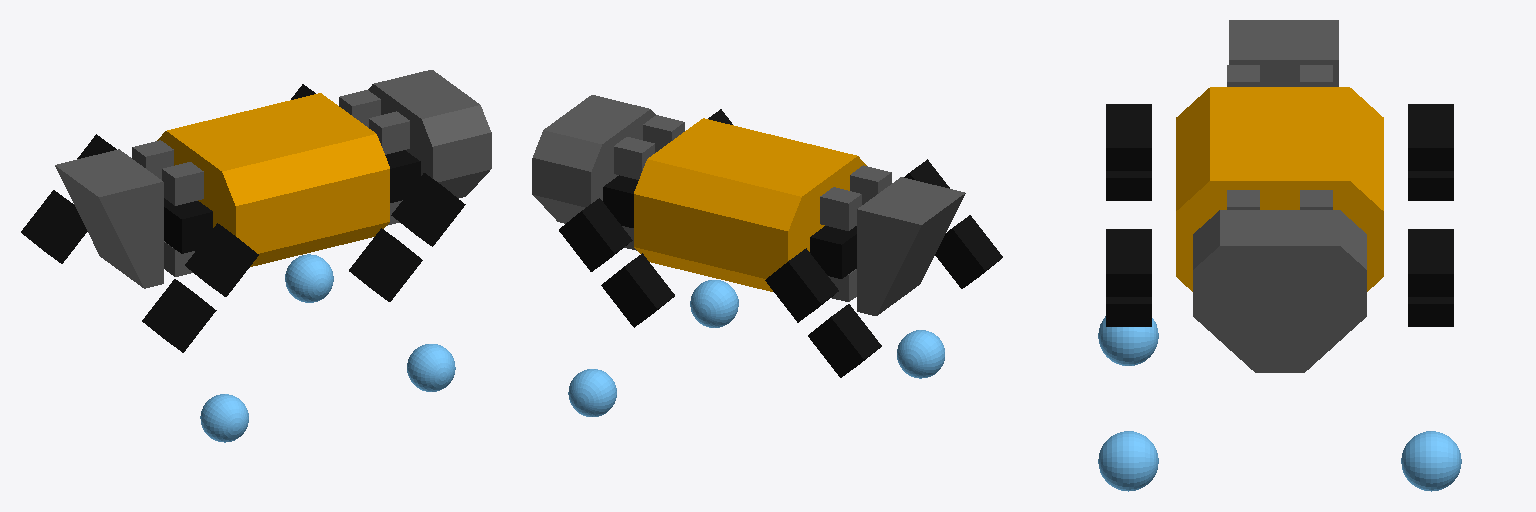
--- Render facts (derived) ---
3 views of the same robot in one strip: view 1: azimuth 30°, elevation 25°; view 2: azimuth 150°, elevation 25°; view 3: azimuth 270°, elevation 25° (orthographic).
Robot: Arctic — 18 links, 17 joints (12 revolute, 5 fixed); root link dummy; default pose: every joint at zero.
Links seen in each view (by area): view 1: root, foot_8, foot_7, foot_1, foot_2, foot_11, foot_-6, foot_-3, foot_-9; view 2: root, foot_11, foot_10, foot_4, foot_5, foot_8, foot_-9, foot_-3, foot_-6, foot_7; view 3: root, foot_1, foot_4, foot_10, foot_7, foot_-3, foot_-6, foot_-9, foot_11, foot_2, foot_5, foot_8.
Link boxes in pixels (left/top/right/bottom): root: left=55, top=70, right=491, bottom=288; foot_8: left=142, top=279, right=216, bottom=352; foot_7: left=185, top=223, right=258, bottom=296; foot_1: left=391, top=173, right=465, bottom=246; foot_2: left=349, top=228, right=422, bottom=301; foot_11: left=21, top=190, right=87, bottom=263; foot_-6: left=285, top=254, right=333, bottom=302; foot_-3: left=407, top=344, right=455, bottom=391; foot_-9: left=200, top=394, right=248, bottom=442; root: left=532, top=95, right=965, bottom=315; foot_11: left=808, top=304, right=881, bottom=377; foot_10: left=765, top=248, right=838, bottom=322; foot_4: left=559, top=198, right=632, bottom=271; foot_5: left=601, top=253, right=674, bottom=327; foot_8: left=935, top=215, right=1002, bottom=288; foot_-9: left=897, top=330, right=944, bottom=378; foot_-3: left=690, top=280, right=738, bottom=327; foot_-6: left=568, top=369, right=616, bottom=416; foot_7: left=904, top=159, right=949, bottom=188; root: left=1176, top=20, right=1383, bottom=372; foot_1: left=1106, top=229, right=1151, bottom=296; foot_4: left=1408, top=229, right=1453, bottom=296; foot_10: left=1408, top=104, right=1453, bottom=170; foot_7: left=1106, top=104, right=1151, bottom=170; foot_-3: left=1098, top=431, right=1158, bottom=491; foot_-6: left=1401, top=431, right=1461, bottom=491; foot_-9: left=1098, top=316, right=1158, bottom=365; foot_11: left=1408, top=171, right=1453, bottom=200; foot_2: left=1106, top=297, right=1151, bottom=326; foot_5: left=1408, top=297, right=1453, bottom=326; foot_8: left=1106, top=171, right=1151, bottom=200.
Size in the robot's own frame: 0.4081 by 0.2734 by 0.2448 metres.
Meshes: 7 distinct files referenced, 6 mesh visuals loaded (6 binary STL); not drawn: 1 (reference not matched to a file when rendering).

robot.urdf — Arctic:
<?xml version="1.0"?>
<!-- created with Phobos 1.0.1 "Capricious Choutengan" -->
  <robot name="Arctic">

    <link name="foot_-12">
      <inertial>
        <origin xyz="0 0 0" rpy="0 0 0"/>
        <mass value="0.1"/>
        <inertia ixx="0.001" ixy="0" ixz="0" iyy="0.001" iyz="0" izz="0.001"/>
      </inertial>
      <visual name="-12">
        <origin xyz="0 0 0.00024" rpy="1.5708 0 0"/>
        <geometry>
          <mesh filename="package://arc_description/meshes/stl/Sphere.003.stl" scale="1.0 1.0 1.0"/>
        </geometry>
        <material name="blue"/>
      </visual>
      <collision name="-12">
        <origin xyz="0 0 0.00024" rpy="1.5708 0 0"/>
        <geometry>
          <sphere radius="0.02278"/>
        </geometry>
      </collision>
    </link>

    <link name="foot_-3">
      <inertial>
        <origin xyz="0 0 0" rpy="0 0 0"/>
        <mass value="0.1"/>
        <inertia ixx="0.001" ixy="0" ixz="0" iyy="0.001" iyz="0" izz="0.001"/>
      </inertial>
      <visual name="-3">
        <origin xyz="0 0 -0.00024" rpy="-1.5708 0 0"/>
        <geometry>
          <mesh filename="package://arc_description/meshes/stl/Sphere.001.stl" scale="1.0 1.0 1.0"/>
        </geometry>
        <material name="blue"/>
      </visual>
      <collision name="-3">
        <origin xyz="0 0 -0.00024" rpy="-1.5708 0 0"/>
        <geometry>
          <sphere radius="0.02278"/>
        </geometry>
      </collision>
    </link>

    <link name="foot_-6">
      <inertial>
        <origin xyz="0 0 0" rpy="0 0 0"/>
        <mass value="0.1"/>
        <inertia ixx="0.001" ixy="0" ixz="0" iyy="0.001" iyz="0" izz="0.001"/>
      </inertial>
      <visual name="-6">
        <origin xyz="0 0 0.00024" rpy="1.5708 0 0"/>
        <geometry>
          <mesh filename="package://arc_description/meshes/stl/Sphere.stl" scale="1.0 1.0 1.0"/>
        </geometry>
        <material name="blue"/>
      </visual>
      <collision name="-6">
        <origin xyz="0 0 0.00024" rpy="1.5708 0 0"/>
        <geometry>
          <sphere radius="0.02278"/>
        </geometry>
      </collision>
    </link>

    <link name="foot_-9">
      <inertial>
        <origin xyz="0 0 0" rpy="0 0 0"/>
        <mass value="0.1"/>
        <inertia ixx="0.001" ixy="0" ixz="0" iyy="0.001" iyz="0" izz="0.001"/>
      </inertial>
      <visual name="-9">
        <origin xyz="0 0 -0.00024" rpy="-1.5708 0 0"/>
        <geometry>
          <mesh filename="package://arc_description/meshes/stl/Sphere.002.stl" scale="1.0 1.0 1.0"/>
        </geometry>
        <material name="blue"/>
      </visual>
      <collision name="-9">
        <origin xyz="0 0 -0.00024" rpy="-1.5708 0 0"/>
        <geometry>
          <sphere radius="0.02278"/>
        </geometry>
      </collision>
    </link>

    <link name="foot_1">
      <inertial>
        <origin xyz="0 0 0" rpy="0 0 0"/>
        <mass value="0.1"/>
        <inertia ixx="0.001" ixy="0" ixz="0" iyy="0.001" iyz="0" izz="0.001"/>
      </inertial>
      <visual name="-1">
        <origin xyz="0.00555 -0.06477 -0.00559" rpy="0 -0.7854 0"/>
        <geometry>
          <box size="0.0356 0.03427 0.0506"/>
        </geometry>
        <material name="black"/>
      </visual>
      <collision name="-1">
        <origin xyz="0.00555 -0.06477 -0.00559" rpy="0 -0.7854 0"/>
        <geometry>
          <box size="0.0356 0.03427 0.0506"/>
        </geometry>
      </collision>
    </link>

    <link name="foot_10">
      <inertial>
        <origin xyz="0 0 0" rpy="0 0 0"/>
        <mass value="0.1"/>
        <inertia ixx="0.001" ixy="0" ixz="0" iyy="0.001" iyz="0" izz="0.001"/>
      </inertial>
      <visual name="-10">
        <origin xyz="-0.00555 0.06525 0.00558" rpy="0 2.35619 0"/>
        <geometry>
          <box size="0.0356 0.03427 0.0506"/>
        </geometry>
        <material name="black"/>
      </visual>
      <collision name="-10">
        <origin xyz="-0.00555 0.06525 0.00558" rpy="0 2.35619 0"/>
        <geometry>
          <box size="0.0356 0.03427 0.0506"/>
        </geometry>
      </collision>
    </link>

    <link name="foot_11">
      <inertial>
        <origin xyz="0 0 0" rpy="0 0 0"/>
        <mass value="0.1"/>
        <inertia ixx="0.001" ixy="0" ixz="0" iyy="0.001" iyz="0" izz="0.001"/>
      </inertial>
      <visual name="-11">
        <origin xyz="-0.03656 0.03692 0.00021" rpy="1.5708 0 0.7854"/>
        <geometry>
          <box size="0.0356 0.03427 0.0506"/>
        </geometry>
        <material name="black"/>
      </visual>
      <collision name="-11">
        <origin xyz="-0.03656 0.03692 0.00021" rpy="1.5708 0 0.7854"/>
        <geometry>
          <box size="0.0356 0.03427 0.0506"/>
        </geometry>
      </collision>
    </link>

    <link name="foot_12">
      <inertial>
        <origin xyz="0 0 0" rpy="0 0 0"/>
        <mass value="0.1"/>
        <inertia ixx="0.001" ixy="0" ixz="0" iyy="0.001" iyz="0" izz="0.001"/>
      </inertial>
    </link>

    <link name="foot_2">
      <inertial>
        <origin xyz="0 0 0" rpy="0 0 0"/>
        <mass value="0.1"/>
        <inertia ixx="0.001" ixy="0" ixz="0" iyy="0.001" iyz="0" izz="0.001"/>
      </inertial>
      <visual name="-2">
        <origin xyz="-0.03656 -0.03692 -0.00027" rpy="-1.5708 0 -0.7854"/>
        <geometry>
          <box size="0.0356 0.03427 0.0506"/>
        </geometry>
        <material name="black"/>
      </visual>
      <collision name="-2">
        <origin xyz="-0.03656 -0.03692 -0.00027" rpy="-1.5708 0 -0.7854"/>
        <geometry>
          <box size="0.0356 0.03427 0.0506"/>
        </geometry>
      </collision>
    </link>

    <link name="foot_3">
      <inertial>
        <origin xyz="0 0 0" rpy="0 0 0"/>
        <mass value="0.1"/>
        <inertia ixx="0.001" ixy="0" ixz="0" iyy="0.001" iyz="0" izz="0.001"/>
      </inertial>
    </link>

    <link name="foot_4">
      <inertial>
        <origin xyz="0 0 0" rpy="0 0 0"/>
        <mass value="0.1"/>
        <inertia ixx="0.001" ixy="0" ixz="0" iyy="0.001" iyz="0" izz="0.001"/>
      </inertial>
      <visual name="-4">
        <origin xyz="0.00555 0.06525 -0.00559" rpy="0 -0.7854 0"/>
        <geometry>
          <box size="0.0356 0.03427 0.0506"/>
        </geometry>
        <material name="black"/>
      </visual>
      <collision name="-4">
        <origin xyz="0.00555 0.06525 -0.00559" rpy="0 -0.7854 0"/>
        <geometry>
          <box size="0.0356 0.03427 0.0506"/>
        </geometry>
      </collision>
    </link>

    <link name="foot_5">
      <inertial>
        <origin xyz="0 0 0" rpy="0 0 0"/>
        <mass value="0.1"/>
        <inertia ixx="0.001" ixy="0" ixz="0" iyy="0.001" iyz="0" izz="0.001"/>
      </inertial>
      <visual name="-5">
        <origin xyz="-0.03656 0.03692 0.00021" rpy="1.5708 0 0.7854"/>
        <geometry>
          <box size="0.0356 0.03427 0.0506"/>
        </geometry>
        <material name="black"/>
      </visual>
      <collision name="-5">
        <origin xyz="-0.03656 0.03692 0.00021" rpy="1.5708 0 0.7854"/>
        <geometry>
          <box size="0.0356 0.03427 0.0506"/>
        </geometry>
      </collision>
    </link>

    <link name="foot_6">
      <inertial>
        <origin xyz="0 0 0" rpy="0 0 0"/>
        <mass value="0.1"/>
        <inertia ixx="0.001" ixy="0" ixz="0" iyy="0.001" iyz="0" izz="0.001"/>
      </inertial>
    </link>

    <link name="foot_7">
      <inertial>
        <origin xyz="0 0 0" rpy="0 0 0"/>
        <mass value="0.1"/>
        <inertia ixx="0.001" ixy="0" ixz="0" iyy="0.001" iyz="0" izz="0.001"/>
      </inertial>
      <visual name="-7">
        <origin xyz="-0.00555 -0.06477 0.00558" rpy="0 2.35619 0"/>
        <geometry>
          <box size="0.0356 0.03427 0.0506"/>
        </geometry>
        <material name="black"/>
      </visual>
      <collision name="-7">
        <origin xyz="-0.00555 -0.06477 0.00558" rpy="0 2.35619 0"/>
        <geometry>
          <box size="0.0356 0.03427 0.0506"/>
        </geometry>
      </collision>
    </link>

    <link name="foot_8">
      <inertial>
        <origin xyz="0 0 0" rpy="0 0 0"/>
        <mass value="0.1"/>
        <inertia ixx="0.001" ixy="0" ixz="0" iyy="0.001" iyz="0" izz="0.001"/>
      </inertial>
      <visual name="-8">
        <origin xyz="-0.03656 -0.03692 -0.00027" rpy="-1.5708 0 -0.7854"/>
        <geometry>
          <box size="0.0356 0.03427 0.0506"/>
        </geometry>
        <material name="black"/>
      </visual>
      <collision name="-8">
        <origin xyz="-0.03656 -0.03692 -0.00027" rpy="-1.5708 0 -0.7854"/>
        <geometry>
          <box size="0.0356 0.03427 0.0506"/>
        </geometry>
      </collision>
    </link>

    <link name="foot_9">
      <inertial>
        <origin xyz="0 0 0" rpy="0 0 0"/>
        <mass value="0.1"/>
        <inertia ixx="0.001" ixy="0" ixz="0" iyy="0.001" iyz="0" izz="0.001"/>
      </inertial>
    </link>

    <link name="root">
      <inertial>
        <origin xyz="0 0 0" rpy="0 0 0"/>
        <mass value="1.0"/>
        <inertia ixx="0.001" ixy="0" ixz="0" iyy="0.001" iyz="0" izz="0.001"/>
      </inertial>
      <visual name="Cube.003">
        <origin xyz="-0.11156 0.02757 0.03673" rpy="0 0 0"/>
        <geometry>
          <box size="0.03085 0.025 0.02849"/>
        </geometry>
        <material name="gray"/>
      </visual>
      <visual name="Cube.004">
        <origin xyz="0.10901 -0.03507 -8e-05" rpy="0 0 0"/>
        <geometry>
          <box size="0.03427 0.0506 0.0356"/>
        </geometry>
        <material name="black"/>
      </visual>
      <visual name="Cube.016">
        <origin xyz="-0.11156 -0.02757 0.03673" rpy="0 0 0"/>
        <geometry>
          <box size="0.03085 0.025 0.02849"/>
        </geometry>
        <material name="gray"/>
      </visual>
      <visual name="Cube.019">
        <origin xyz="0.10901 0.03507 -8e-05" rpy="0 0 0"/>
        <geometry>
          <box size="0.03427 0.0506 0.0356"/>
        </geometry>
        <material name="black"/>
      </visual>
      <visual name="Cube.020">
        <origin xyz="-0.11447 -0.03473 0" rpy="0 0 0"/>
        <geometry>
          <box size="0.03427 0.0506 0.0356"/>
        </geometry>
        <material name="black"/>
      </visual>
      <visual name="Cube.021">
        <origin xyz="-0.11405 0.03507 -8e-05" rpy="0 0 0"/>
        <geometry>
          <box size="0.03427 0.0506 0.0356"/>
        </geometry>
        <material name="black"/>
      </visual>
      <visual name="Cube.022">
        <origin xyz="-0.11156 -0.02757 -0.03673" rpy="0 0 0"/>
        <geometry>
          <box size="0.03085 0.025 0.02849"/>
        </geometry>
        <material name="gray"/>
      </visual>
      <visual name="Cube.023">
        <origin xyz="-0.11156 0.02757 -0.03673" rpy="0 0 0"/>
        <geometry>
          <box size="0.03085 0.025 0.02849"/>
        </geometry>
        <material name="gray"/>
      </visual>
      <visual name="Cube.024">
        <origin xyz="0.11156 0.02757 0.03673" rpy="0 0 0"/>
        <geometry>
          <box size="0.03085 0.025 0.02849"/>
        </geometry>
        <material name="gray"/>
      </visual>
      <visual name="Cube.025">
        <origin xyz="0.11156 0.02757 -0.03673" rpy="0 0 0"/>
        <geometry>
          <box size="0.03085 0.025 0.02849"/>
        </geometry>
        <material name="gray"/>
      </visual>
      <visual name="Cube.026">
        <origin xyz="0.11156 -0.02757 0.03673" rpy="0 0 0"/>
        <geometry>
          <box size="0.03085 0.025 0.02849"/>
        </geometry>
        <material name="gray"/>
      </visual>
      <visual name="Cube.027">
        <origin xyz="0.11156 -0.02757 -0.03673" rpy="0 0 0"/>
        <geometry>
          <box size="0.03085 0.025 0.02849"/>
        </geometry>
        <material name="gray"/>
      </visual>
      <visual name="back">
        <origin xyz="-0.16121 0 0" rpy="1.5708 0 0"/>
        <geometry>
          <mesh filename="package://arc_description/meshes/stl/Cube.042.stl" scale="1.0 1.0 1.0"/>
        </geometry>
        <material name="gray"/>
      </visual>
      <visual name="body">
        <origin xyz="0 0 0" rpy="1.5708 0 0"/>
        <geometry>
          <mesh filename="package://arc_description/meshes/stl/Cube.182.stl" scale="1.0 1.0 1.0"/>
        </geometry>
      </visual>
      <visual name="front">
        <origin xyz="0.16789 0 0.00678" rpy="1.5708 0 0"/>
        <geometry>
          <mesh filename="package://arc_description/meshes/stl/Cube.041.stl" scale="1.0 1.0 1.0"/>
        </geometry>
        <material name="gray"/>
      </visual>
      <collision name="Cube.003">
        <origin xyz="-0.11156 0.02757 0.03673" rpy="0 0 0"/>
        <geometry>
          <box size="0.03085 0.025 0.02849"/>
        </geometry>
      </collision>
      <collision name="Cube.004">
        <origin xyz="0.10901 -0.03507 -8e-05" rpy="0 0 0"/>
        <geometry>
          <box size="0.03427 0.0506 0.0356"/>
        </geometry>
      </collision>
      <collision name="Cube.016">
        <origin xyz="-0.11156 -0.02757 0.03673" rpy="0 0 0"/>
        <geometry>
          <box size="0.03085 0.025 0.02849"/>
        </geometry>
      </collision>
      <collision name="Cube.020">
        <origin xyz="-0.11447 -0.03473 0" rpy="0 0 0"/>
        <geometry>
          <box size="0.03427 0.0506 0.0356"/>
        </geometry>
      </collision>
      <collision name="Cube.021">
        <origin xyz="-0.11405 0.03507 -8e-05" rpy="0 0 0"/>
        <geometry>
          <box size="0.03427 0.0506 0.0356"/>
        </geometry>
      </collision>
      <collision name="Cube.022">
        <origin xyz="-0.11156 -0.02757 -0.03673" rpy="0 0 0"/>
        <geometry>
          <box size="0.03085 0.025 0.02849"/>
        </geometry>
      </collision>
      <collision name="Cube.023">
        <origin xyz="-0.11156 0.02757 -0.03673" rpy="0 0 0"/>
        <geometry>
          <box size="0.03085 0.025 0.02849"/>
        </geometry>
      </collision>
      <collision name="Cube.024">
        <origin xyz="0.11156 0.02757 0.03673" rpy="0 0 0"/>
        <geometry>
          <box size="0.03085 0.025 0.02849"/>
        </geometry>
      </collision>
      <collision name="Cube.025">
        <origin xyz="0.11156 0.02757 -0.03673" rpy="0 0 0"/>
        <geometry>
          <box size="0.03085 0.025 0.02849"/>
        </geometry>
      </collision>
      <collision name="Cube.026">
        <origin xyz="0.11156 -0.02757 0.03673" rpy="0 0 0"/>
        <geometry>
          <box size="0.03085 0.025 0.02849"/>
        </geometry>
      </collision>
      <collision name="Cube.027">
        <origin xyz="0.11156 -0.02757 -0.03673" rpy="0 0 0"/>
        <geometry>
          <box size="0.03085 0.025 0.02849"/>
        </geometry>
      </collision>
      <collision name="back">
        <origin xyz="-0.16121 0 0" rpy="0 0 0"/>
        <geometry>
          <mesh filename="package://arc_description/meshes/stl/Cube.208.stl" scale="1.0 1.0 1.0"/>
        </geometry>
      </collision>
      <collision name="body">
        <origin xyz="0 0 0" rpy="0 0 0"/>
        <geometry>
          <mesh filename="package://arc_description/meshes/stl/Cube.209.stl" scale="1.0 1.0 1.0"/>
        </geometry>
      </collision>
      <collision name="front">
        <origin xyz="0.16789 0 0.00678" rpy="0 0 0"/>
        <geometry>
          <mesh filename="package://arc_description/meshes/stl/Cube.207.stl" scale="1.0 1.0 1.0"/>
        </geometry>
      </collision>
    </link>

    <joint name="foot_-12_" type="fixed">
      <origin xyz="0.05837 0.10775 -4e-05" rpy="0 0 0"/>
      <parent link="foot_12"/>
      <child link="foot_-12"/>
    </joint>

    <joint name="foot_-3_" type="fixed">
      <origin xyz="0.05837 -0.10775 -4e-05" rpy="0 0 0"/>
      <parent link="foot_3"/>
      <child link="foot_-3"/>
    </joint>

    <joint name="foot_-6_" type="fixed">
      <origin xyz="0.05837 0.10775 -4e-05" rpy="0 0 0"/>
      <parent link="foot_6"/>
      <child link="foot_-6"/>
    </joint>

    <joint name="foot_-9_" type="fixed">
      <origin xyz="0.05837 -0.10775 -4e-05" rpy="0 0 0"/>
      <parent link="foot_9"/>
      <child link="foot_-9"/>
    </joint>

    <joint name="foot_1_" type="revolute">
      <origin xyz="0.10966 -0.04864 -0.00018" rpy="0 1.5708 0"/>
      <parent link="root"/>
      <child link="foot_1"/>
      <axis xyz="0 0 1.0"/>
      <limit lower="-1.57" upper="1.57" effort="3" velocity="55.0"/>
    </joint>

    <joint name="foot_10_" type="revolute">
      <origin xyz="-0.11341 0.04816 -0.00018" rpy="0 -1.5708 0"/>
      <parent link="root"/>
      <child link="foot_10"/>
      <axis xyz="0 0 1.0"/>
      <limit lower="-1.57" upper="1.57" effort="3" velocity="55.0"/>
    </joint>

    <joint name="foot_11_" type="revolute">
      <origin xyz="-0.01511 0.06504 0.01513" rpy="-1.5708 1.5708 0"/>
      <parent link="foot_10"/>
      <child link="foot_11"/>
      <axis xyz="0 0 1.0"/>
      <limit lower="-1.57" upper="1.57" effort="3" velocity="55.0"/>
    </joint>

    <joint name="foot_12_" type="revolute">
      <origin xyz="-0.04607 0.04607 0.00053" rpy="0 0 0"/>
      <parent link="foot_11"/>
      <child link="foot_12"/>
      <axis xyz="0 0 1.0"/>
      <limit lower="-1.57" upper="1.57" effort="3" velocity="55.0"/>
    </joint>

    <joint name="foot_2_" type="revolute">
      <origin xyz="0.01511 -0.06504 -0.01513" rpy="1.5708 -1.5708 0"/>
      <parent link="foot_1"/>
      <child link="foot_2"/>
      <axis xyz="0 0 1.0"/>
      <limit lower="-1.57" upper="1.57" effort="3" velocity="55.0"/>
    </joint>

    <joint name="foot_3_" type="revolute">
      <origin xyz="-0.04607 -0.04607 0.00053" rpy="0 0 0"/>
      <parent link="foot_2"/>
      <child link="foot_3"/>
      <axis xyz="0 0 1.0"/>
      <limit lower="-1.57" upper="1.57" effort="3" velocity="55.0"/>
    </joint>

    <joint name="foot_4_" type="revolute">
      <origin xyz="0.10966 0.04816 -0.00018" rpy="0 1.5708 0"/>
      <parent link="root"/>
      <child link="foot_4"/>
      <axis xyz="0 0 1.0"/>
      <limit lower="-1.57" upper="1.57" effort="3" velocity="55.0"/>
    </joint>

    <joint name="foot_5_" type="revolute">
      <origin xyz="0.01511 0.06504 -0.01513" rpy="-1.5708 -1.5708 0"/>
      <parent link="foot_4"/>
      <child link="foot_5"/>
      <axis xyz="0 0 1.0"/>
      <limit lower="-1.57" upper="1.57" effort="3" velocity="55.0"/>
    </joint>

    <joint name="foot_6_" type="revolute">
      <origin xyz="-0.04607 0.04607 0.00053" rpy="0 0 0"/>
      <parent link="foot_5"/>
      <child link="foot_6"/>
      <axis xyz="0 0 1.0"/>
      <limit lower="-1.57" upper="1.57" effort="3" velocity="55.0"/>
    </joint>

    <joint name="foot_7_" type="revolute">
      <origin xyz="-0.11341 -0.04864 -0.00018" rpy="0 -1.5708 0"/>
      <parent link="root"/>
      <child link="foot_7"/>
      <axis xyz="0 0 1.0"/>
      <limit lower="-1.57" upper="1.57" effort="3" velocity="55.0"/>
    </joint>

    <joint name="foot_8_" type="revolute">
      <origin xyz="-0.01511 -0.06504 0.01513" rpy="1.5708 1.5708 0"/>
      <parent link="foot_7"/>
      <child link="foot_8"/>
      <axis xyz="0 0 1.0"/>
      <limit lower="-1.57" upper="1.57" effort="3" velocity="55.0"/>
    </joint>

    <joint name="foot_9_" type="revolute">
      <origin xyz="-0.04607 -0.04607 0.00053" rpy="0 0 0"/>
      <parent link="foot_8"/>
      <child link="foot_9"/>
      <axis xyz="0 0 1.0"/>
      <limit lower="-1.57" upper="1.57" effort="3" velocity="55.0"/>
    </joint>

     <material name="black">
      <color rgba="0.1 0.1 0.1 1.0"/>
    </material>

    <material name="gray">
      <color rgba="0.4 0.4 0.4 1.0"/>
    </material>

    <material name="blue">
      <color rgba="0.5 0.8 1 1.0"/>
    </material>

    <link name="dummy"></link>

    <joint name="dummy_joint" type="fixed">
        <parent link="dummy"/>
        <child link="root"/>
    </joint>

    <!-- ROS control plugin -->
    <gazebo>
      <plugin name="gazebo_ros_control" filename="libgazebo_ros_control.so">
        <robotNamespace>/Arctic</robotNamespace>
      </plugin>
    </gazebo>

    <!-- IMU sensor -->
    <gazebo reference="root">
      <gravity>true</gravity>
      <sensor name="imu_sensor" type="imu">
        <always_on>true</always_on>
        <update_rate>100</update_rate>
        <visualize>true</visualize>
        <topic>__default_topic__</topic>
        <plugin filename="libgazebo_ros_imu_sensor.so" name="imu_plugin">
          <topicName>arctic_imu/base_link_orientation</topicName>
          <bodyName>imu_link</bodyName>
          <updateRateHZ>15.0</updateRateHZ>
          <gaussianNoise>0.0</gaussianNoise>
          <xyzOffset>0 0 0</xyzOffset>
          <rpyOffset>0 0 0</rpyOffset>
          <frameName>root</frameName>
          <initialOrientationAsReference>false</initialOrientationAsReference>
        </plugin>
        <pose>0 0 0 0 0 0</pose>
      </sensor>
    </gazebo>

    <!-- Joint state publisher plugin -->
    <gazebo>
      <plugin name="joint_state_publisher" filename="libgazebo_ros_joint_state_publisher.so">
          <robotNamespace>/Arctic</robotNamespace>
          <jointName>foot_1_, foot_2_, foot_3_, foot_4_, foot_5_,
                    foot_6_, foot_7_, foot_8_, foot_9_, foot_10_,
                    foot_11_, foot_12_</jointName>
          <updateRate>100</updateRate>
      </plugin>
    </gazebo>

    <!-- Transmission -->
    <transmission name="tran1">
      <type>transmission_interface/SimpleTransmission</type>
      <joint name="foot_1_">
        <hardwareInterface>hardware_interface/EffortJointInterface</hardwareInterface>
      </joint>
      <actuator name="motor1">
      <hardwareInterface>hardware_interface/EffortJointInterface</hardwareInterface>
      <mechanicalReduction>5</mechanicalReduction>
      </actuator>
    </transmission>

    <transmission name="tran2">
      <type>transmission_interface/SimpleTransmission</type>
      <joint name="foot_2_">
        <hardwareInterface>hardware_interface/EffortJointInterface</hardwareInterface>
      </joint>
      <actuator name="motor2">
      <hardwareInterface>hardware_interface/EffortJointInterface</hardwareInterface>
      <mechanicalReduction>5</mechanicalReduction>
      </actuator>
    </transmission>

    <transmission name="tran3">
      <type>transmission_interface/SimpleTransmission</type>
      <joint name="foot_3_">
        <hardwareInterface>hardware_interface/EffortJointInterface</hardwareInterface>
      </joint>
      <actuator name="motor3">
      <hardwareInterface>hardware_interface/EffortJointInterface</hardwareInterface>
      <mechanicalReduction>5</mechanicalReduction>
      </actuator>
    </transmission>

    <transmission name="tran4">
      <type>transmission_interface/SimpleTransmission</type>
      <joint name="foot_4_">
        <hardwareInterface>hardware_interface/EffortJointInterface</hardwareInterface>
      </joint>
      <actuator name="motor4">
      <hardwareInterface>hardware_interface/EffortJointInterface</hardwareInterface>
      <mechanicalReduction>5</mechanicalReduction>
      </actuator>
    </transmission>

    <transmission name="tran5">
      <type>transmission_interface/SimpleTransmission</type>
      <joint name="foot_5_">
        <hardwareInterface>hardware_interface/EffortJointInterface</hardwareInterface>
      </joint>
      <actuator name="motor5">
      <hardwareInterface>hardware_interface/EffortJointInterface</hardwareInterface>
      <mechanicalReduction>5</mechanicalReduction>
      </actuator>
    </transmission>

    <transmission name="tran6">
      <type>transmission_interface/SimpleTransmission</type>
      <joint name="foot_6_">
        <hardwareInterface>hardware_interface/EffortJointInterface</hardwareInterface>
      </joint>
      <actuator name="motor6">
      <hardwareInterface>hardware_interface/EffortJointInterface</hardwareInterface>
      <mechanicalReduction>5</mechanicalReduction>
      </actuator>
    </transmission>

    <transmission name="tran7">
      <type>transmission_interface/SimpleTransmission</type>
      <joint name="foot_7_">
        <hardwareInterface>hardware_interface/EffortJointInterface</hardwareInterface>
      </joint>
      <actuator name="motor7">
      <hardwareInterface>hardware_interface/EffortJointInterface</hardwareInterface>
      <mechanicalReduction>5</mechanicalReduction>
      </actuator>
    </transmission>

    <transmission name="tran8">
      <type>transmission_interface/SimpleTransmission</type>
      <joint name="foot_8_">
        <hardwareInterface>hardware_interface/EffortJointInterface</hardwareInterface>
      </joint>
      <actuator name="motor8">
      <hardwareInterface>hardware_interface/EffortJointInterface</hardwareInterface>
      <mechanicalReduction>5</mechanicalReduction>
      </actuator>
    </transmission>

    <transmission name="tran9">
      <type>transmission_interface/SimpleTransmission</type>
      <joint name="foot_9_">
        <hardwareInterface>hardware_interface/EffortJointInterface</hardwareInterface>
      </joint>
      <actuator name="motor9">
      <hardwareInterface>hardware_interface/EffortJointInterface</hardwareInterface>
      <mechanicalReduction>5</mechanicalReduction>
      </actuator>
    </transmission>

    <transmission name="tran10">
      <type>transmission_interface/SimpleTransmission</type>
      <joint name="foot_10_">
        <hardwareInterface>hardware_interface/EffortJointInterface</hardwareInterface>
      </joint>
      <actuator name="motor10">
      <hardwareInterface>hardware_interface/EffortJointInterface</hardwareInterface>
      <mechanicalReduction>5</mechanicalReduction>
      </actuator>
    </transmission>

    <transmission name="tran11">
      <type>transmission_interface/SimpleTransmission</type>
      <joint name="foot_11_">
        <hardwareInterface>hardware_interface/EffortJointInterface</hardwareInterface>
      </joint>
      <actuator name="motor11">
      <hardwareInterface>hardware_interface/EffortJointInterface</hardwareInterface>
      <mechanicalReduction>5</mechanicalReduction>
      </actuator>
    </transmission>

    <transmission name="tran12">
      <type>transmission_interface/SimpleTransmission</type>
      <joint name="foot_12_">
        <hardwareInterface>hardware_interface/EffortJointInterface</hardwareInterface>
      </joint>
      <actuator name="motor12">
      <hardwareInterface>hardware_interface/EffortJointInterface</hardwareInterface>
      <mechanicalReduction>5</mechanicalReduction>
      </actuator>
    </transmission>

    <!-- FR4 friction -->
    <gazebo reference="foot_-3">
      <mu1>200.0</mu1>
      <mu2>100.0</mu2>
      <minDepth>0.0002</minDepth>
      <kp  value="1000000.0"/>
      <kd  value="100.0"/>
    </gazebo>

    <!-- FL4 friction -->
    <gazebo reference="foot_-6">
      <mu1>200.0</mu1>
      <mu2>100.0</mu2>
      <minDepth>0.0002</minDepth>
      <kp  value="1000000.0"/>
      <kd  value="100.0"/>
    </gazebo>

    <!-- RR4 friction -->
    <gazebo reference="foot_-9">
      <mu1>200.0</mu1>
      <mu2>100.0</mu2>
      <minDepth>0.0002</minDepth>
      <kp  value="1000000.0"/>
      <kd  value="100.0"/>
    </gazebo>

    <!-- RL4 friction -->
    <gazebo reference="foot_-12">
      <mu1>200.0</mu1>
      <mu2>100.0</mu2>
      <minDepth>0.0002</minDepth>
      <kp  value="1000000.0"/>
      <kd  value="100.0"/>
    </gazebo>

  </robot>
